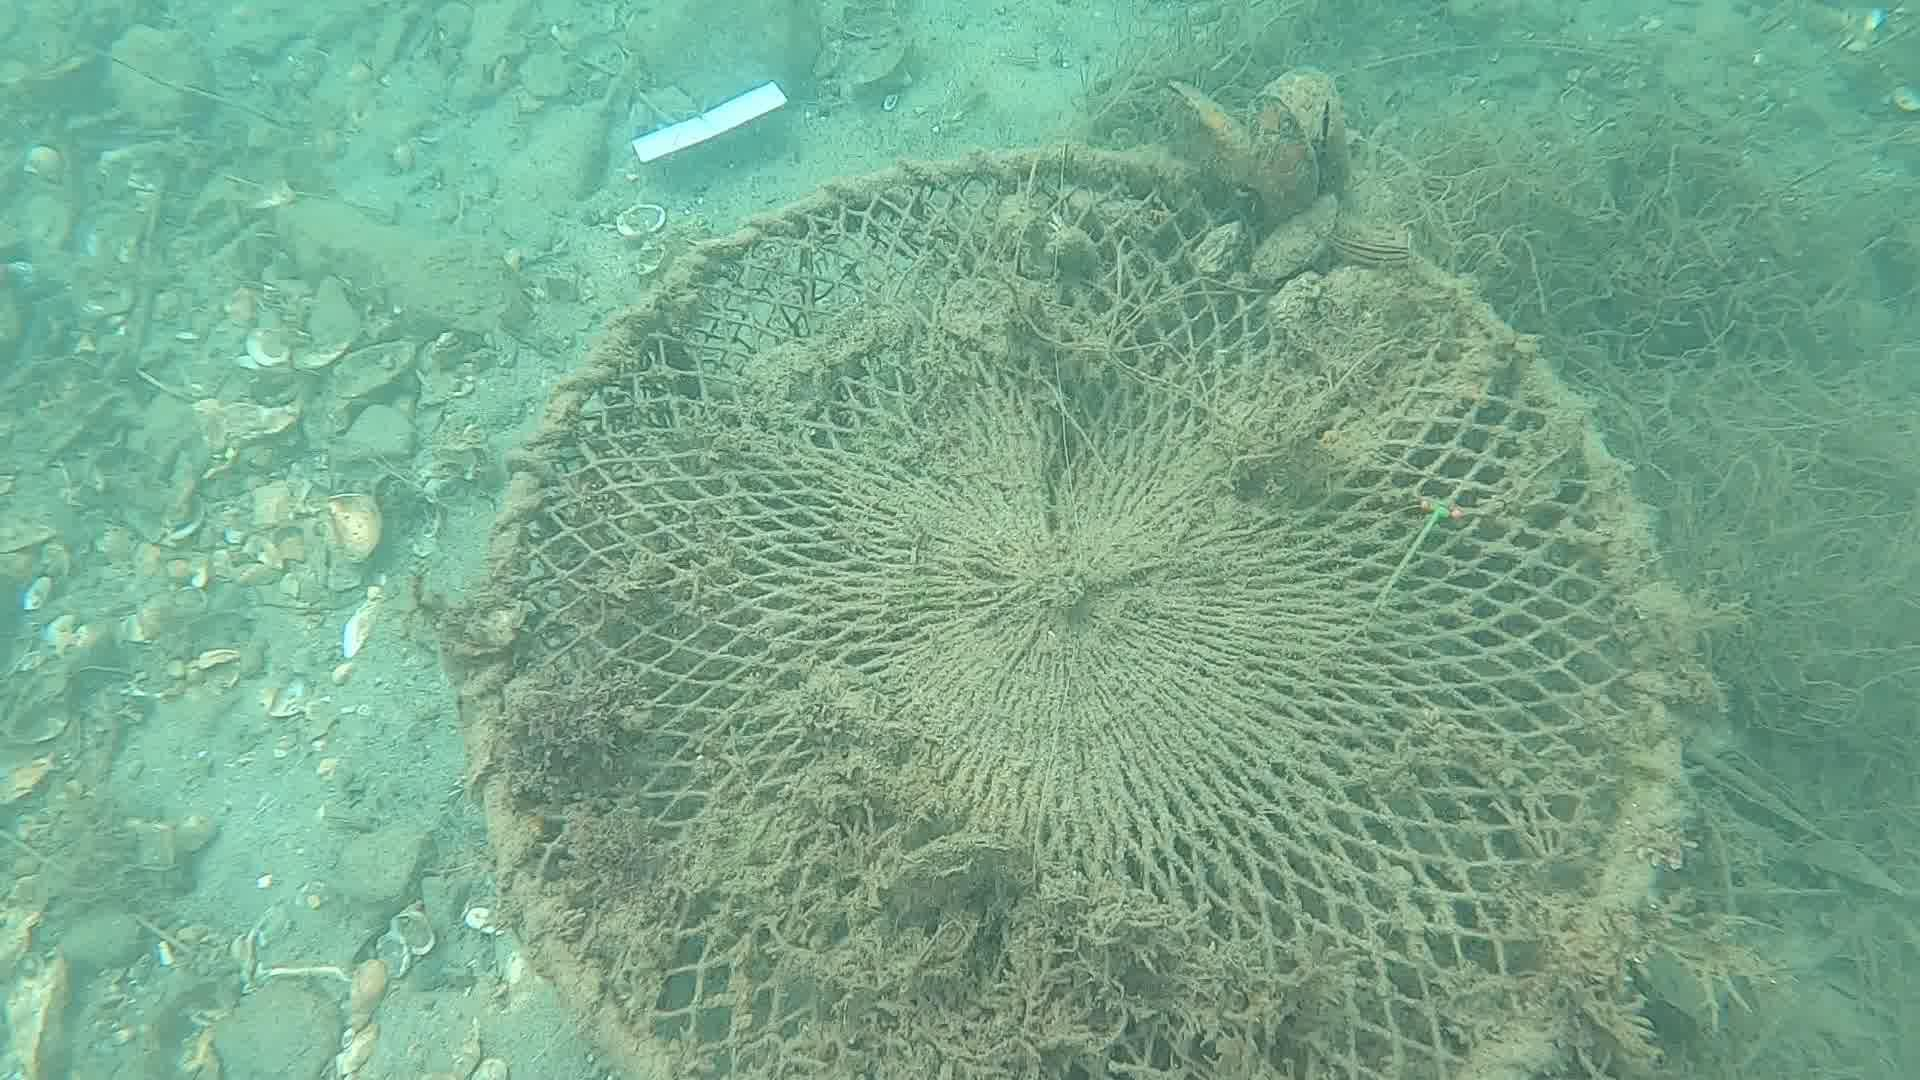circular fish trap: (464, 140, 1691, 1080)
